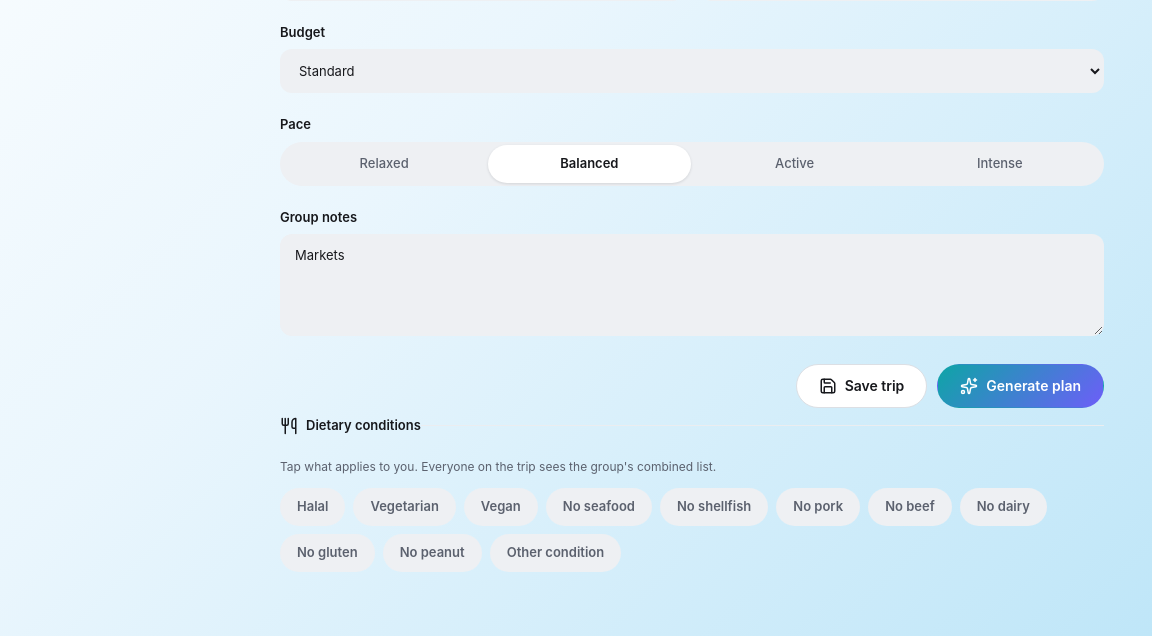
Test case: trip workspace › does not generate after a save validation error
(page scrolled)
Click the button "Generate plan": (1021, 386) [937,364,1104,408]
(page scrolled)
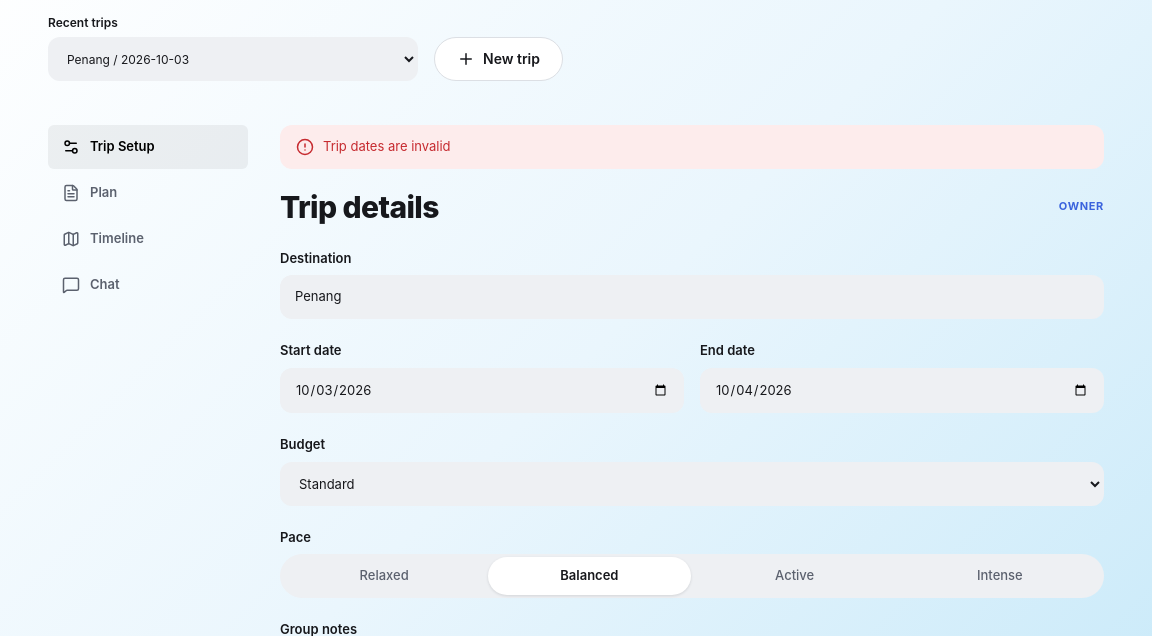
Check: the message reads "Trip dates are invalid", box [323,138,451,154]
